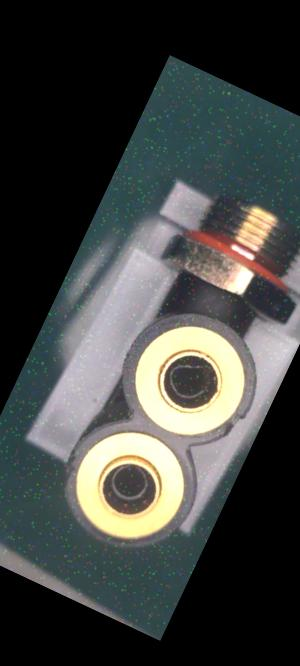bump: (46, 438, 92, 497), (212, 399, 252, 443)
off-centered: (152, 344, 224, 416)
white mark: (196, 290, 215, 309)
